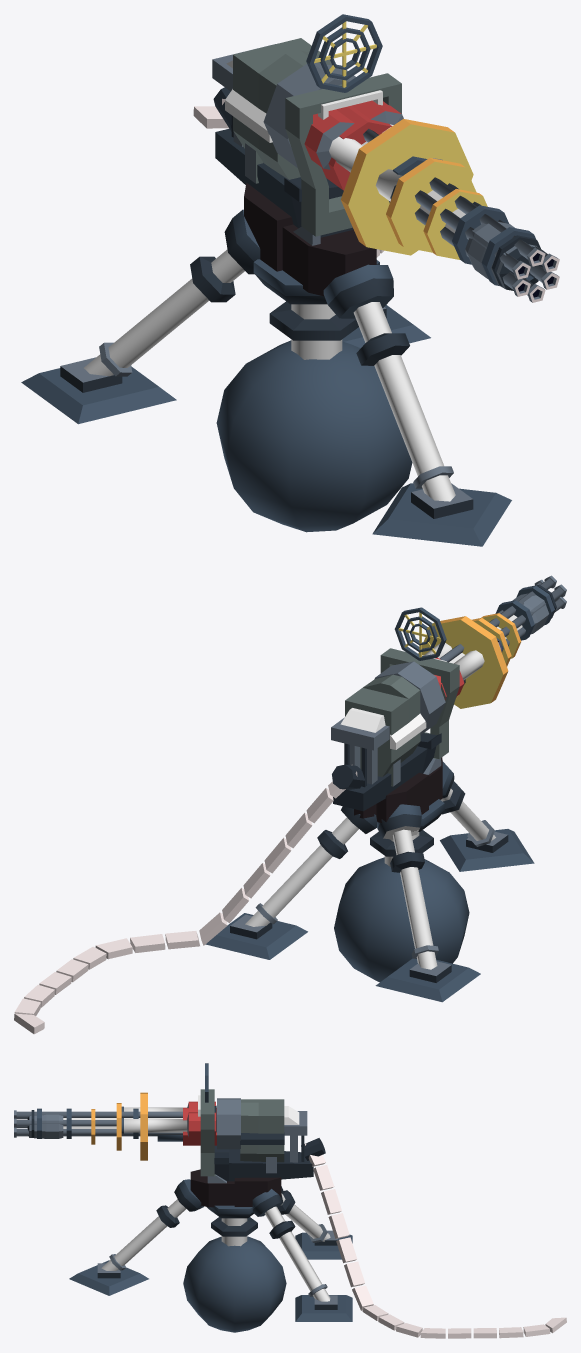
Rendered from Turret_Model_V06.fbx.
3 renders of one model, top to bottom at view 1: azimuth 30°, elevation 25°; view 2: azimuth 150°, elevation 25°; view 3: azimuth 270°, elevation 25°, orthographic. The views are drawn at different scales.
Parts seen in each view (by area): view 1: Turret_Wheel, Turret_Legs, Turret_Main, Turret_Laser, Turret_Rotating_Barrels, Turret_Shotgun, Turret_Sight, Turret_Ammo_Mesh; view 2: Turret_Legs, Turret_Main, Turret_Wheel, Turret_Ammo_Mesh, Turret_Laser, Turret_Rotating_Barrels, Turret_Sight, Turret_Shotgun; view 3: Turret_Main, Turret_Legs, Turret_Wheel, Turret_Ammo_Mesh, Turret_Rotating_Barrels, Turret_Laser, Turret_Shotgun.
Boxes of the visible parts, left/top/right/bottom form: Turret_Wheel: left=216, top=259, right=412, bottom=532; Turret_Legs: left=21, top=209, right=511, bottom=546; Turret_Main: left=212, top=38, right=401, bottom=296; Turret_Laser: left=322, top=105, right=542, bottom=290; Turret_Rotating_Barrels: left=363, top=128, right=559, bottom=302; Turret_Shotgun: left=304, top=90, right=442, bottom=201; Turret_Sight: left=306, top=14, right=382, bottom=92; Turret_Ammo_Mesh: left=193, top=98, right=383, bottom=257; Turret_Legs: left=205, top=761, right=534, bottom=1002; Turret_Main: left=331, top=648, right=459, bottom=822; Turret_Wheel: left=334, top=799, right=469, bottom=982; Turret_Ammo_Mesh: left=14, top=764, right=357, bottom=1034; Turret_Laser: left=418, top=593, right=556, bottom=708; Turret_Rotating_Barrels: left=439, top=575, right=566, bottom=662; Turret_Sight: left=394, top=607, right=446, bottom=660; Turret_Shotgun: left=422, top=638, right=503, bottom=699; Turret_Main: left=190, top=1089, right=325, bottom=1207; Turret_Legs: left=69, top=1179, right=352, bottom=1321; Turret_Wheel: left=183, top=1205, right=286, bottom=1332; Turret_Ammo_Mesh: left=304, top=1143, right=566, bottom=1338; Turret_Rotating_Barrels: left=14, top=1105, right=216, bottom=1138; Turret_Laser: left=27, top=1092, right=216, bottom=1160; Turret_Shotgun: left=121, top=1095, right=215, bottom=1141.
Bounding box in the file's own units: 1627 × 1819 × 3455.
